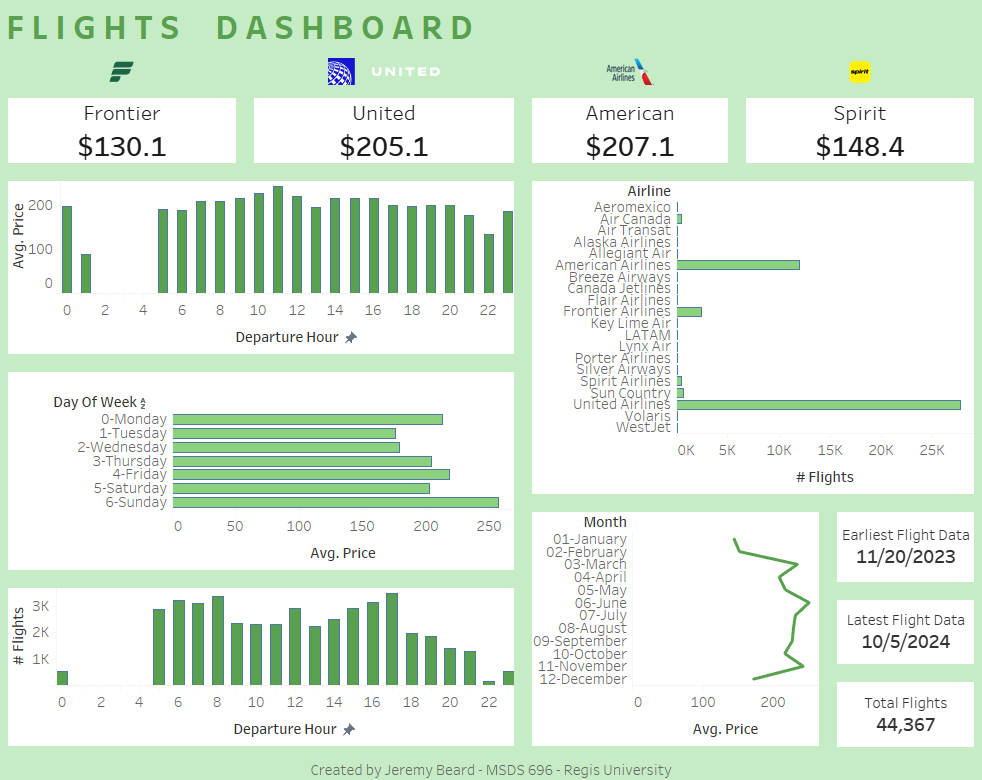

What the dashboard file says about the page in this screenshot:
{"tool":"tableau","page":{"name":"Dashboard 1","canvas":[1000,800],"ordinal":0},"visuals":[{"type":"text","box":[8,8,984,53]},{"type":"image","param":"C:/Users/jerem/OneDrive/Documents/School/_REGIS/2023-08_Fall/MSDS696/MSDS696/Tab","box":[8,63,246,35]},{"type":"image","param":"C:/Users/jerem/OneDrive/Documents/School/_REGIS/2023-08_Fall/MSDS696/MSDS696/Tab","box":[254,63,278,35]},{"type":"image","param":"C:/Users/jerem/OneDrive/Documents/School/_REGIS/2023-08_Fall/MSDS696/MSDS696/Tab","box":[532,63,214,35]},{"type":"image","param":"C:/Users/jerem/OneDrive/Documents/School/_REGIS/2023-08_Fall/MSDS696/MSDS696/Tab","box":[746,63,246,35]},{"type":"worksheet","title":"Frontier Avg","mark":"Automatic","box":[13,103,236,73]},{"type":"worksheet","title":"United Avg","mark":"Automatic","box":[259,103,268,73]},{"type":"worksheet","title":"American Avg","mark":"Automatic","box":[537,103,204,73]},{"type":"worksheet","title":"Spirit Avg","mark":"Automatic","box":[751,103,236,73]},{"type":"worksheet","title":"Price by Hour","mark":"Bar","rows":["price"],"cols":["deptHour"],"box":[13,186,514,181]},{"type":"worksheet","title":"Flight Counts by Airline","mark":"Automatic","rows":["marktName"],"cols":["flights_df.csv_8A71DB1D3B3644F7B6BA4FA185518B89"],"box":[537,186,450,321]},{"type":"worksheet","title":"Price by DOW","mark":"Bar","rows":["deptDayOfWeek"],"cols":["price"],"box":[13,377,514,206.1]},{"type":"worksheet","title":"Price by Month","mark":"Line","rows":["deptMonth"],"cols":["price"],"box":[537,517,295,242.5]},{"type":"worksheet","title":"Earliest Flight","mark":"Text","box":[842,517,145,78]},{"type":"worksheet","title":"Flights by Hour","mark":"Bar","rows":["flights_df.csv_8A71DB1D3B3644F7B6BA4FA185518B89"],"cols":["deptHour"],"box":[13,593.1,514,166.4]},{"type":"worksheet","title":"Latest Flight","mark":"Text","box":[842,605,145,72]},{"type":"worksheet","title":"Total Flight Data","mark":"Text","box":[837,682,155,82.5]},{"type":"text","box":[8,764.5,984,27.5]}]}

Visuals, with their boxes in screenshot pixels (x1, y1, x2, y2), scaled from the page's 1000x800 canvas onto the 982x780 screenshot:
text: 8 8 974 59
image: 8 61 249 96
image: 249 61 522 96
image: 522 61 733 96
image: 733 61 974 96
"Frontier Avg" worksheet: 13 100 245 172
"United Avg" worksheet: 254 100 518 172
"American Avg" worksheet: 527 100 728 172
"Spirit Avg" worksheet: 737 100 969 172
"Price by Hour" worksheet (Bar marks): 13 181 518 358
"Flight Counts by Airline" worksheet: 527 181 969 494
"Price by DOW" worksheet (Bar marks): 13 368 518 569
"Price by Month" worksheet (Line marks): 527 504 817 741
"Earliest Flight" worksheet (Text marks): 827 504 969 580
"Flights by Hour" worksheet (Bar marks): 13 578 518 741
"Latest Flight" worksheet (Text marks): 827 590 969 660
"Total Flight Data" worksheet (Text marks): 822 665 974 745
text: 8 745 974 772
